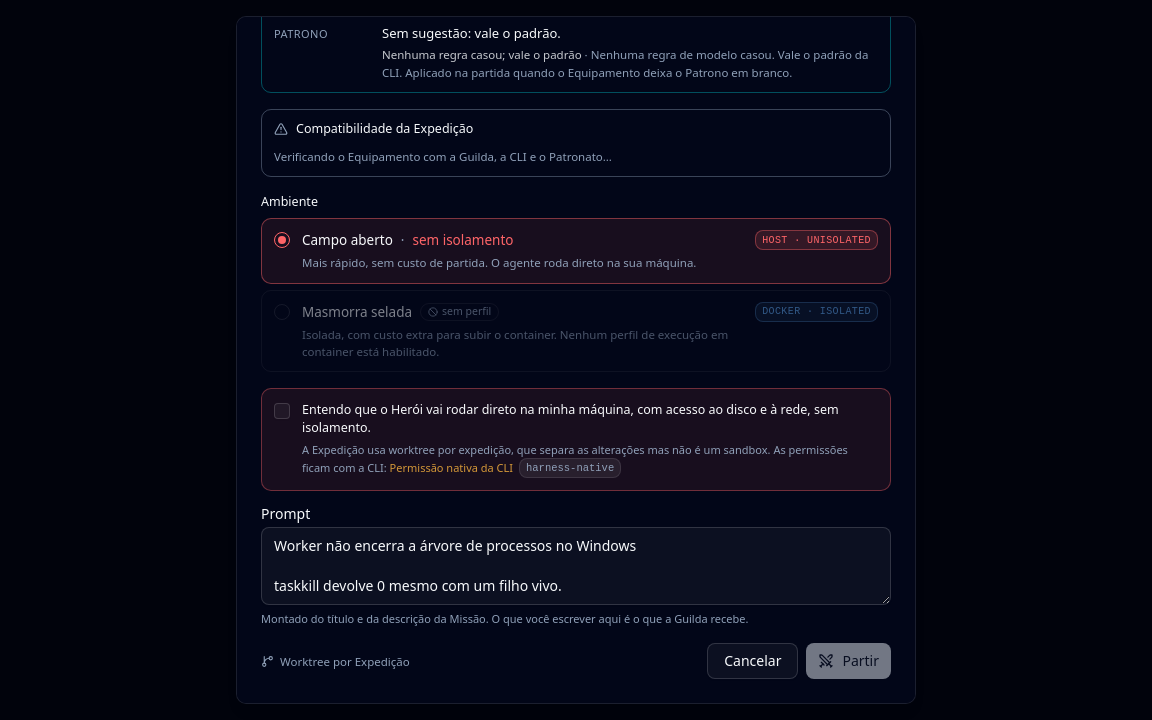
as recusas da autonomia na Nova Expedição › BREAKER_OPEN mostra a Sentinela, o motivo e quando reabre
The image size is (1152, 720).
(page scrolled)
Click the checkbox named "Aceito executar sem isolamento".
click(282, 411)  # box [274, 403, 290, 419]
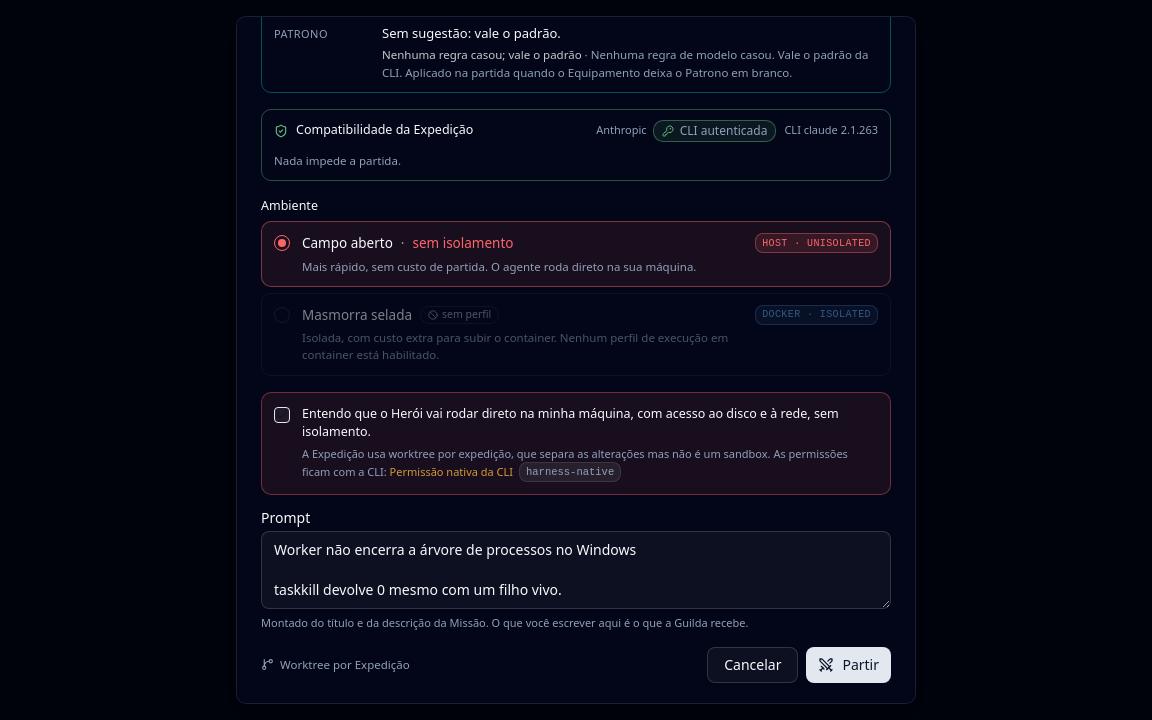
Check: the button "Partir" is enabled
Click the button "Partir".
click(849, 664)  # box [806, 646, 891, 682]
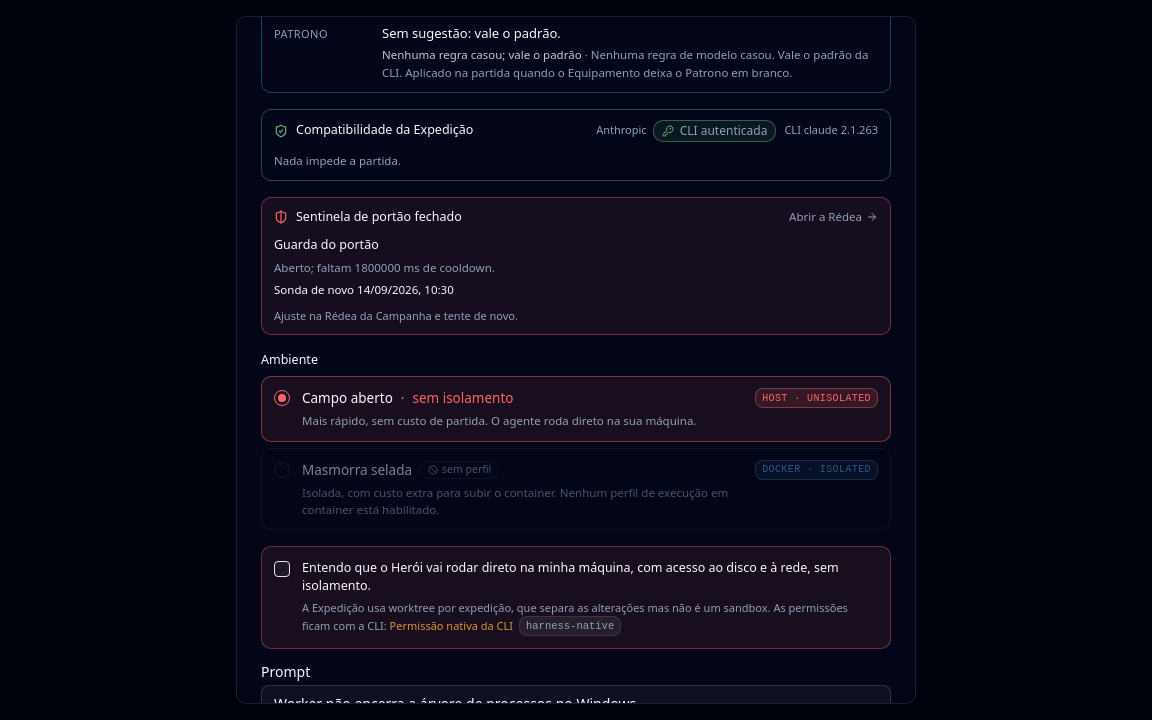
Check: the element that starts with "Sentinela de portão fechado" is shown, box [261, 196, 891, 335]
Check: the element that starts with "Sentinela de portão fechado" shows "Guarda do portão", box [274, 236, 379, 253]
Check: the element that starts with "Sentinela de portão fechado" shows "Aberto; faltam 1800000 ms de cooldown.", box [274, 260, 495, 275]
